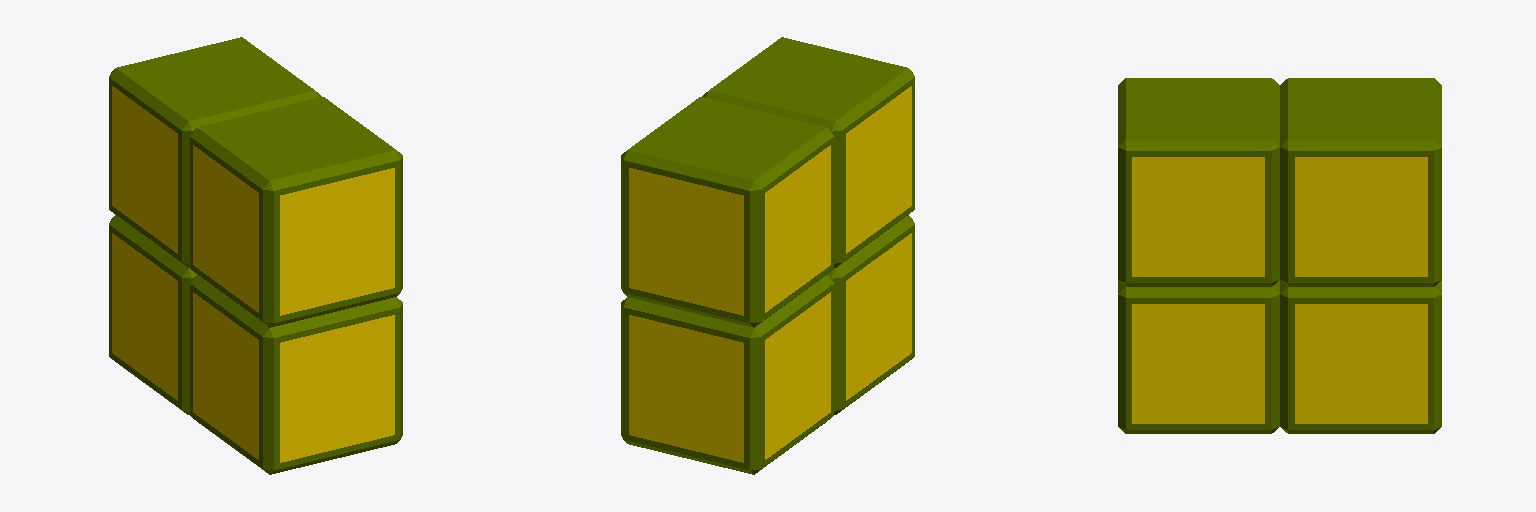
The model's file is fig2_color.obj.
3 views of the same model, side by side, from view 1: azimuth 30°, elevation 25°; view 2: azimuth 150°, elevation 25°; view 3: azimuth 270°, elevation 25° (orthographic).
Visible parts, largest first — view 1: Cube.001, Cube, Cube.003, Cube.002; view 2: Cube.003, Cube.002, Cube.001, Cube; view 3: Cube.001, Cube.003, Cube, Cube.002.
Part boxes in pixels (bbox=[...]): Cube.001: bbox=[190, 97, 402, 327]; Cube: bbox=[190, 275, 402, 474]; Cube.003: bbox=[109, 37, 321, 267]; Cube.002: bbox=[109, 215, 196, 414]; Cube.003: bbox=[621, 97, 833, 327]; Cube.002: bbox=[621, 275, 833, 474]; Cube.001: bbox=[702, 37, 914, 267]; Cube: bbox=[827, 215, 914, 414]; Cube.001: bbox=[1118, 78, 1279, 286]; Cube.003: bbox=[1280, 78, 1441, 286]; Cube: bbox=[1118, 280, 1279, 433]; Cube.002: bbox=[1280, 280, 1441, 433].
Size of the model in its own units: 2 by 4 by 4.